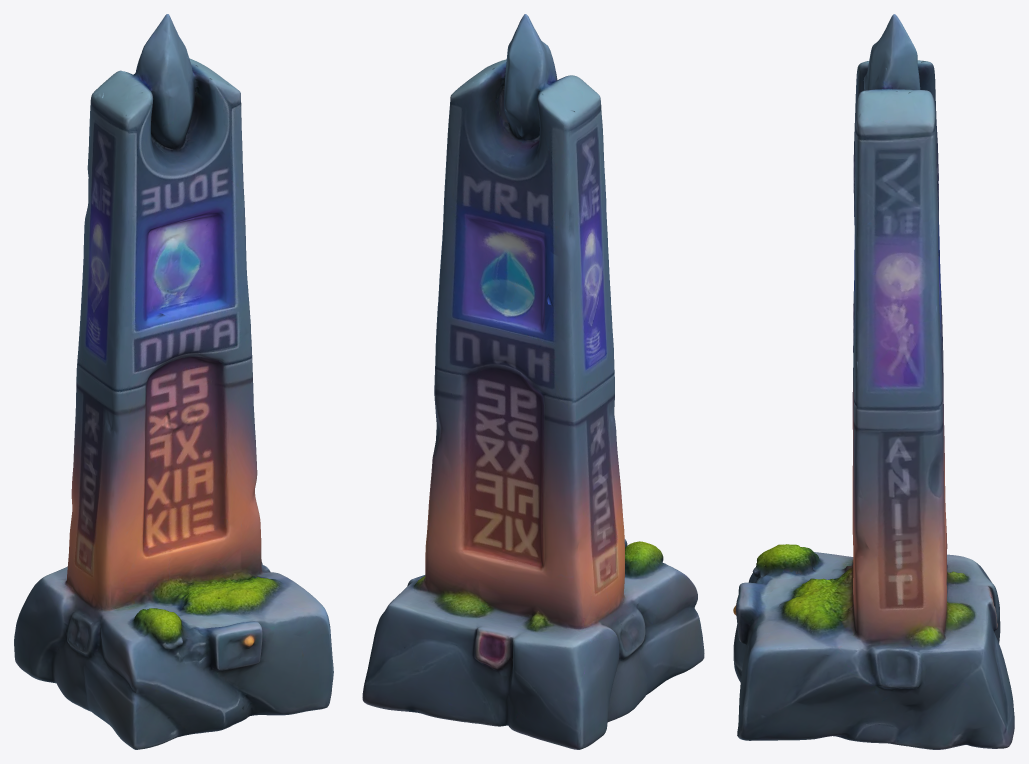
Rendered from waystone.glb.
3 views of the same model, side by side, from view 1: azimuth 30°, elevation 25°; view 2: azimuth 150°, elevation 25°; view 3: azimuth 270°, elevation 25° (orthographic). The views are drawn at different scales.
Size of the model in its own units: 0.6822 by 2 by 0.7437.
Materials: 1 (1 with a texture image).
